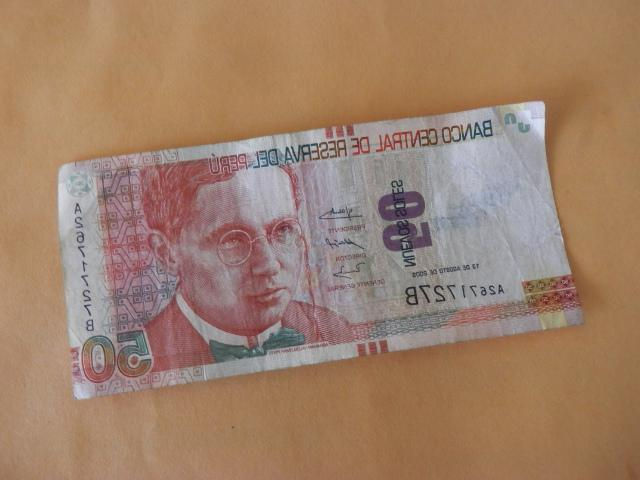B50: (58, 102, 582, 399)
